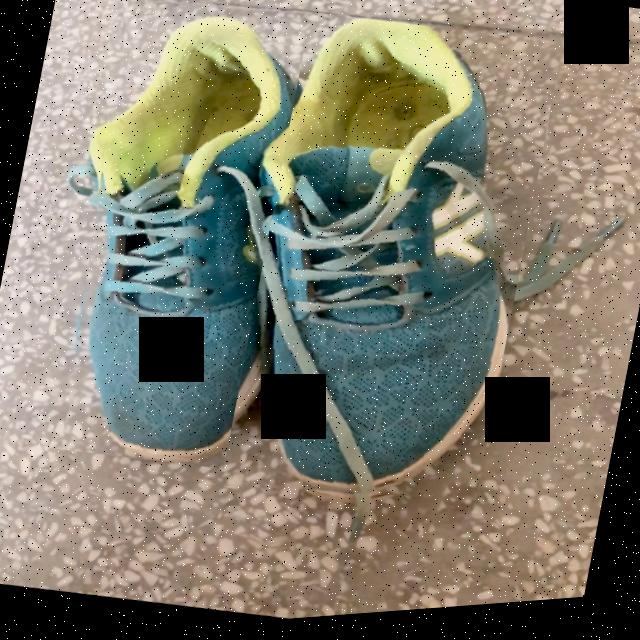shoe: (246, 24, 509, 503), (95, 29, 279, 466)
